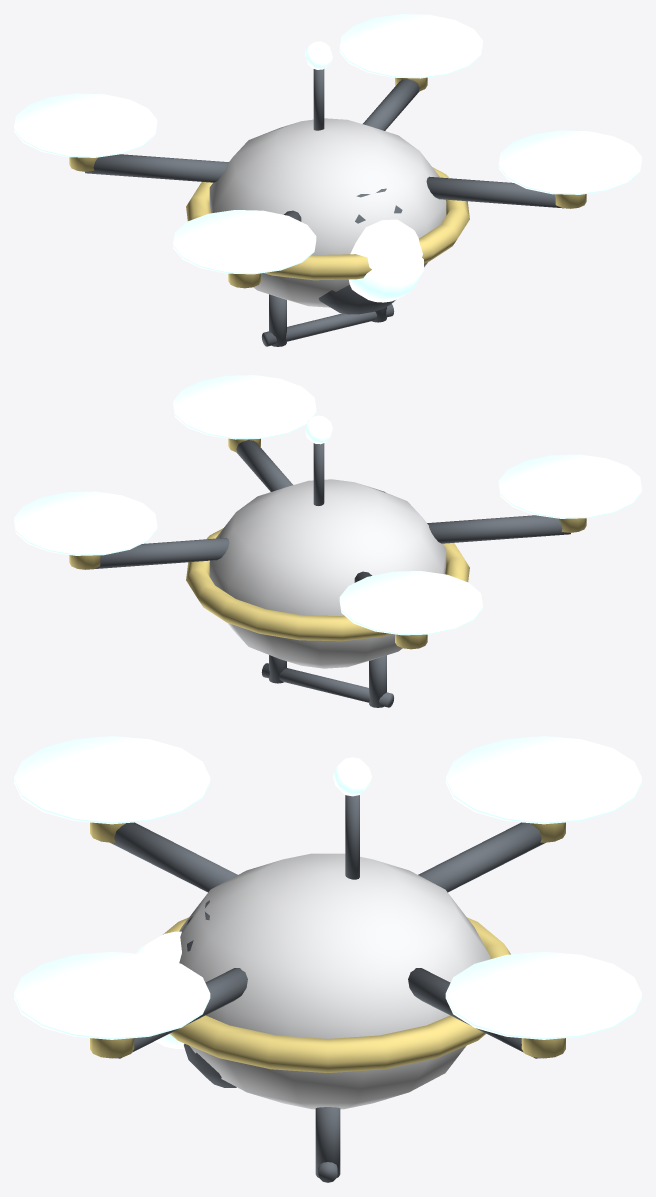
File: mob_robot_drone_v01.glb
3 views of the same model, one above another, from view 1: azimuth 30°, elevation 25°; view 2: azimuth 150°, elevation 25°; view 3: azimuth 270°, elevation 25° (orthographic). The views are drawn at different scales.
Parts seen in each view (by area): view 1: mob_robot_drone_v01; view 2: mob_robot_drone_v01; view 3: mob_robot_drone_v01.
Boxes of the visible parts, x1,y1,x2,y2 form: mob_robot_drone_v01: [14, 14, 641, 346]; mob_robot_drone_v01: [14, 375, 641, 707]; mob_robot_drone_v01: [14, 736, 641, 1182].
Bounding box in the file's own units: 1.44 × 0.86 × 1.28.
